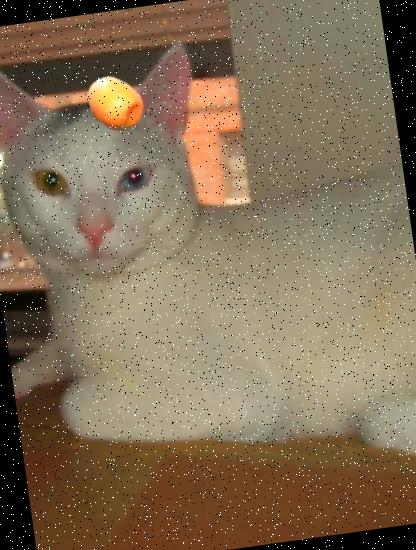Kumquats: (82, 69, 150, 138)
